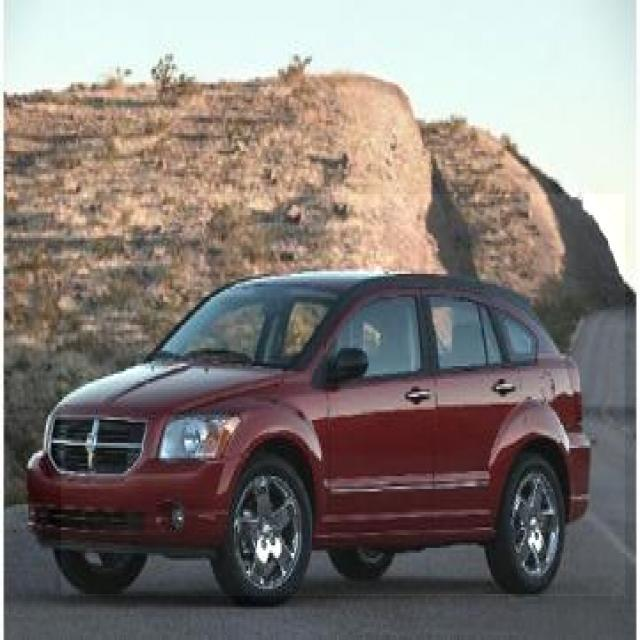Car: (61, 194, 625, 596)
